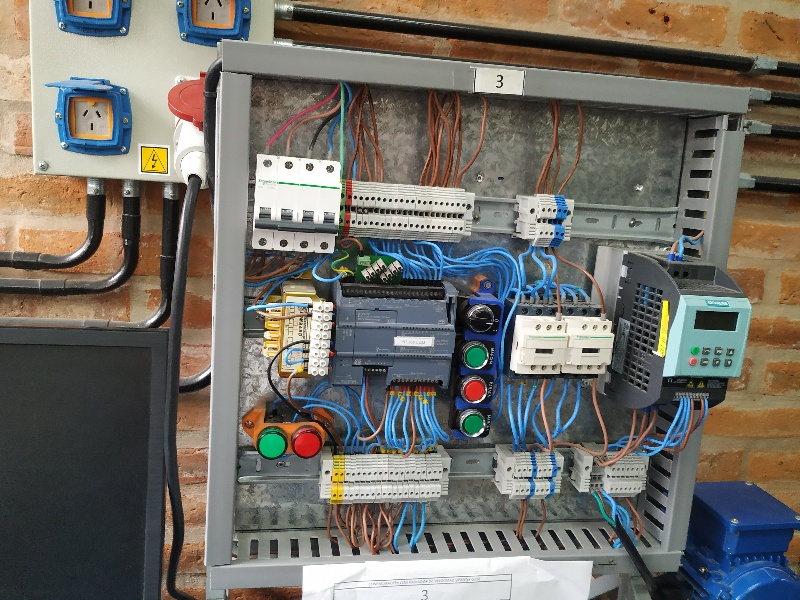Tablero 3: (245, 65, 752, 569)
